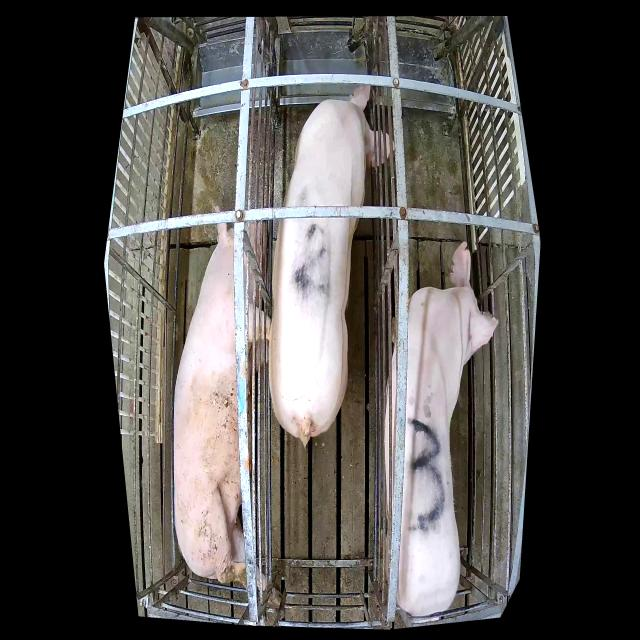pig: (269, 84, 395, 448), (381, 240, 498, 616), (174, 206, 282, 609)
